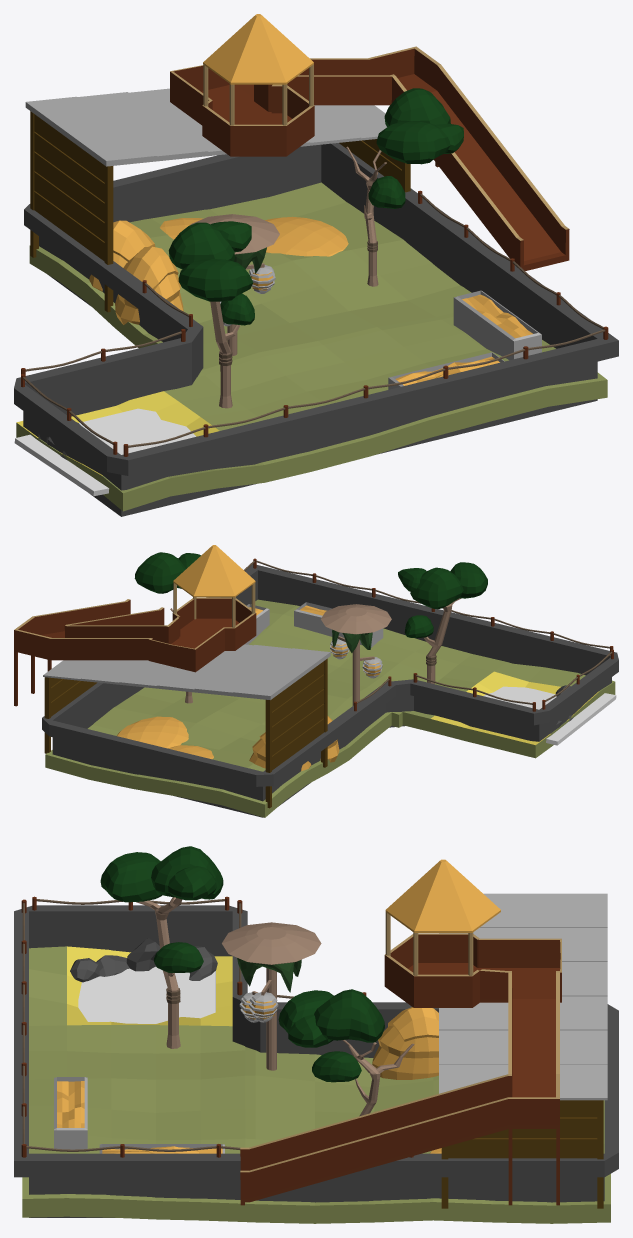
The model's file is Giraffe_Level_4.fbx.
3 views of the same model, one above another, from view 1: azimuth 30°, elevation 25°; view 2: azimuth 150°, elevation 25°; view 3: azimuth 270°, elevation 25° (orthographic). The views are drawn at different scales.
Parts seen in each view (by area): view 1: Grass grass grass.006; view 2: Grass grass grass.006; view 3: Grass grass grass.006.
Part boxes in pixels (x1,y1,x2,y2): Grass grass grass.006: (14, 14, 618, 516); Grass grass grass.006: (14, 545, 618, 817); Grass grass grass.006: (14, 846, 618, 1223).
Bounding box in the file's own units: 4042 × 1944 × 3586.
